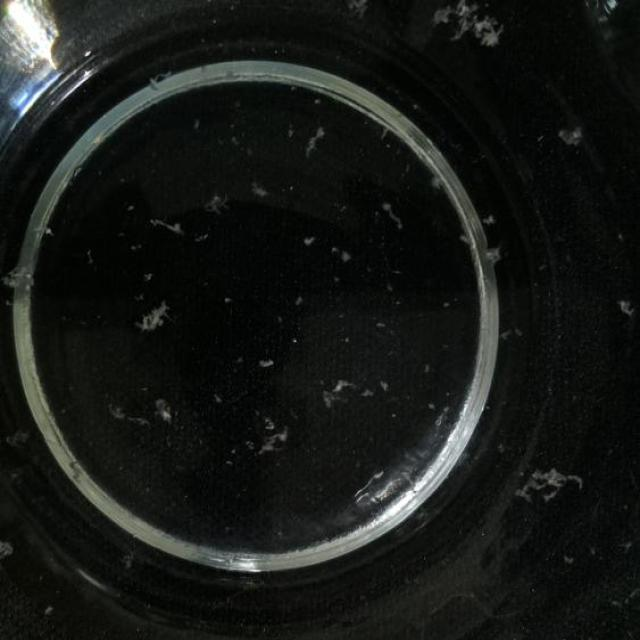fiber: (425, 0, 524, 63), (511, 453, 591, 514), (249, 417, 298, 459), (0, 262, 47, 304), (468, 211, 502, 268), (374, 197, 415, 238), (317, 373, 358, 414), (552, 112, 592, 151), (147, 205, 184, 244), (195, 181, 228, 224), (144, 298, 178, 338), (147, 392, 180, 432), (333, 0, 381, 25), (300, 119, 330, 159), (0, 527, 23, 571), (249, 179, 281, 210), (607, 294, 638, 326), (258, 346, 283, 376), (296, 226, 318, 250)
